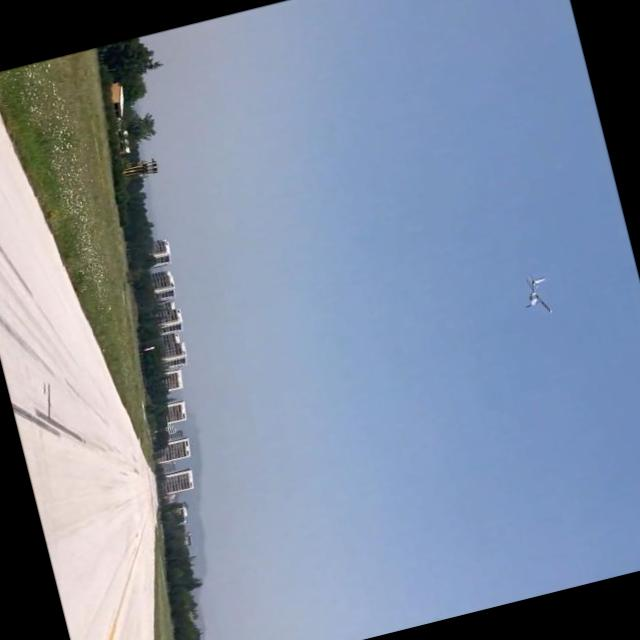UAV: (497, 242, 568, 334)
